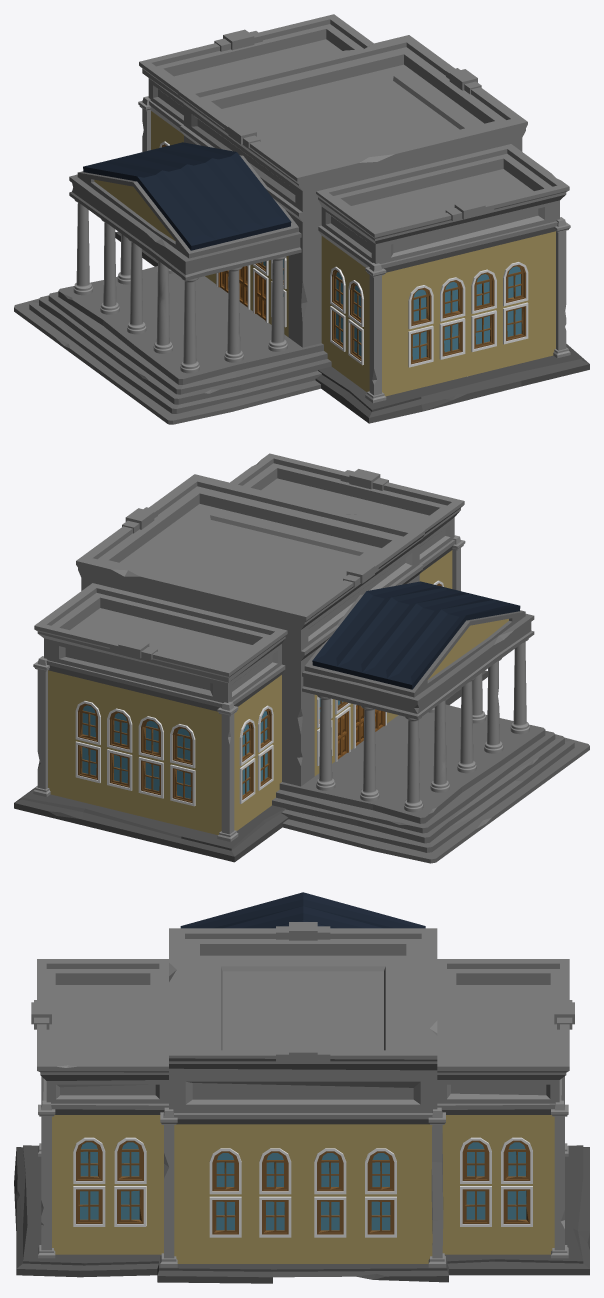
Rendered from City Hall.fbx.
3 views of the same model, one above another, from view 1: azimuth 30°, elevation 25°; view 2: azimuth 150°, elevation 25°; view 3: azimuth 270°, elevation 25° (orthographic). The views are drawn at different scales.
Visible parts, largest first — view 1: Grey, Platform, Side Right, Roof, Columns, Top, Side, Top WIndows, Bottom Windows, Front, Beams, Doors (+1 smaller); view 2: Grey, Platform, Side Left, Roof, Columns, Top, Side, Top WIndows, Bottom Windows, Front, Beams, Doors (+1 smaller); view 3: Grey, Back, Side, Top WIndows, Bottom Windows, Beams, Roof.
Part boxes in pixels (box(x1,y1,x2,y2)): Grey: box(139, 14, 569, 347); Platform: box(14, 266, 331, 424); Side Right: box(382, 231, 555, 396); Roof: box(83, 142, 291, 250); Columns: box(73, 200, 287, 373); Top: box(69, 155, 301, 280); Side: box(115, 231, 589, 423); Top WIndows: box(159, 141, 528, 329); Bottom Windows: box(271, 281, 528, 367); Front: box(151, 111, 369, 391); Beams: box(138, 96, 570, 403); Doors: box(216, 265, 268, 322); Grey: box(34, 453, 464, 786); Platform: box(272, 704, 589, 863); Side Left: box(48, 670, 221, 834); Roof: box(312, 581, 520, 689); Columns: box(316, 639, 529, 812); Top: box(302, 594, 534, 719); Side: box(14, 670, 487, 862); Top WIndows: box(75, 580, 443, 768); Bottom Windows: box(75, 720, 332, 806); Front: box(234, 550, 452, 830); Beams: box(33, 535, 465, 841); Doors: box(335, 704, 386, 761); Grey: box(31, 922, 574, 1124); Back: box(52, 1115, 554, 1263); Side: box(14, 1145, 589, 1283); Top WIndows: box(73, 1137, 532, 1194); Bottom Windows: box(73, 1186, 532, 1237); Beams: box(38, 1076, 568, 1267); Roof: box(180, 892, 425, 928).
Size of the model in its own units: 2419 by 1199 by 2755.
